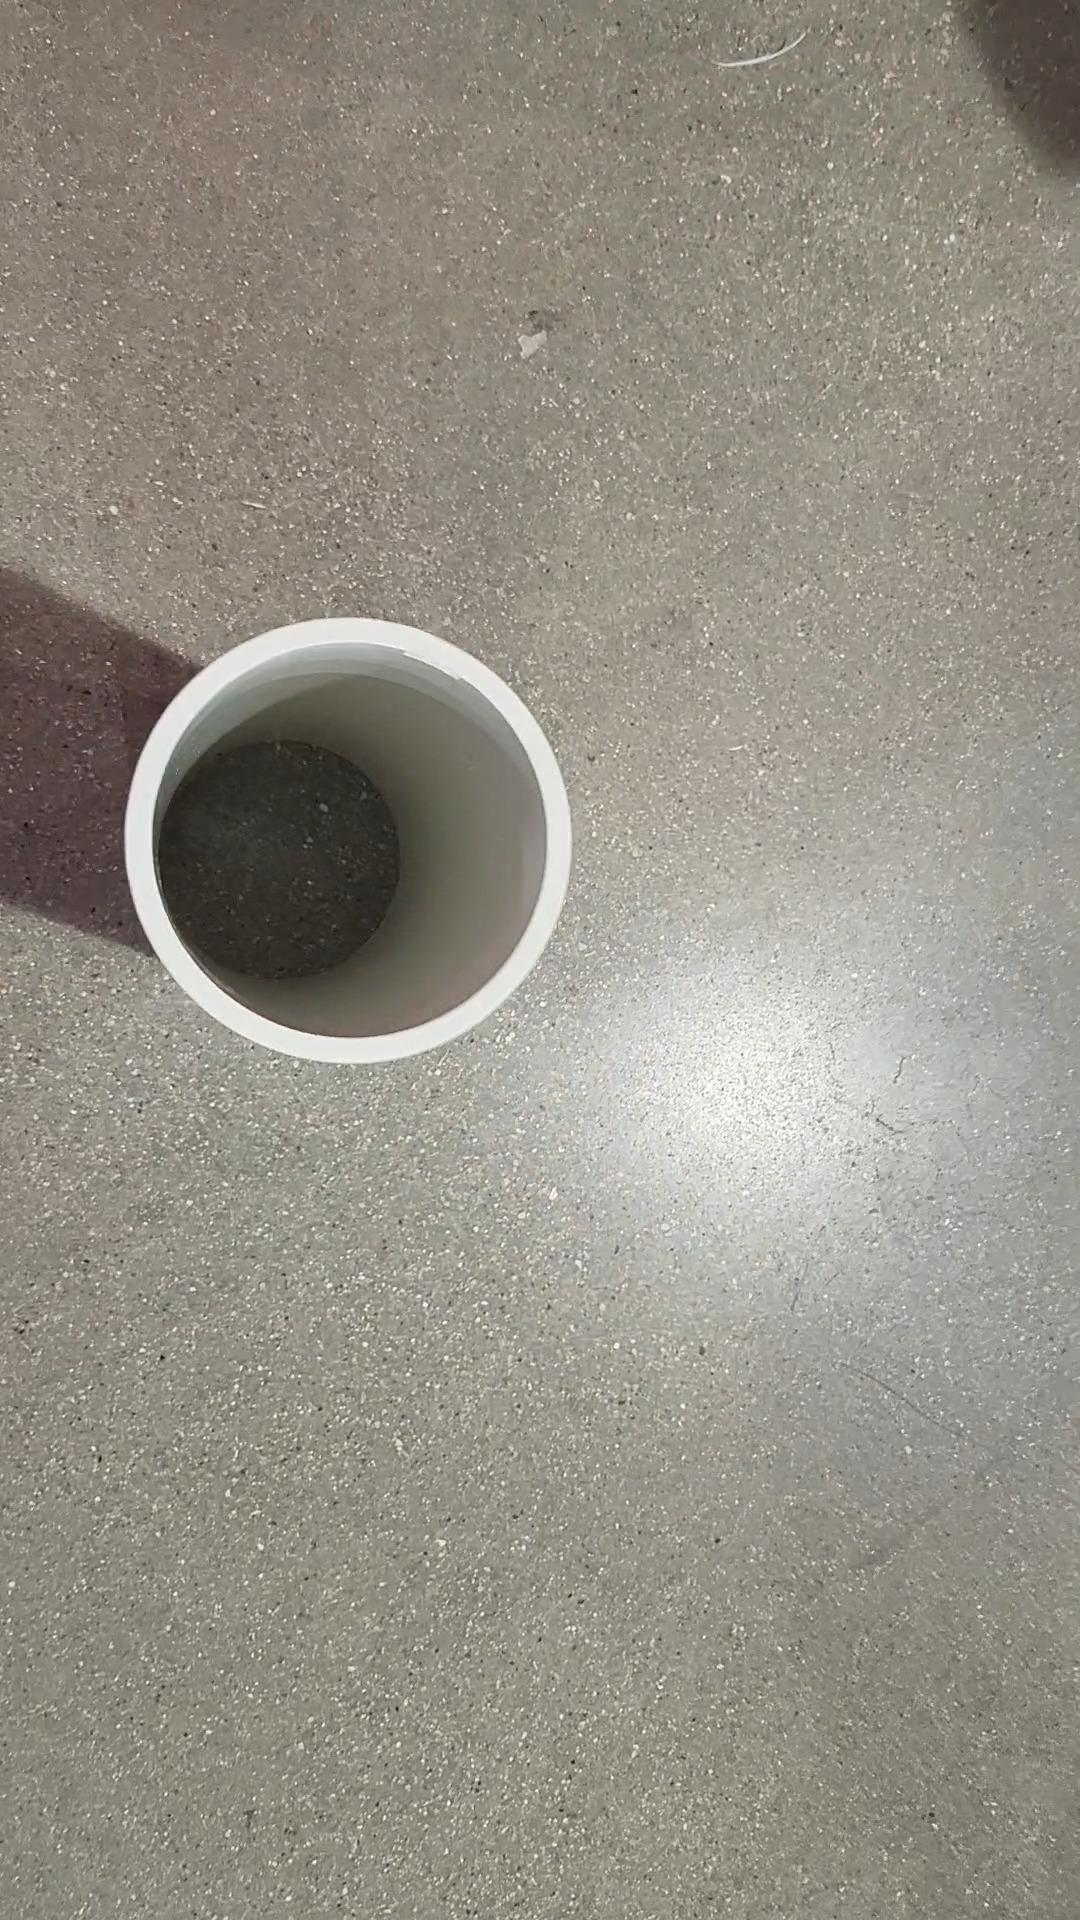coral: (133, 624, 574, 1076)
